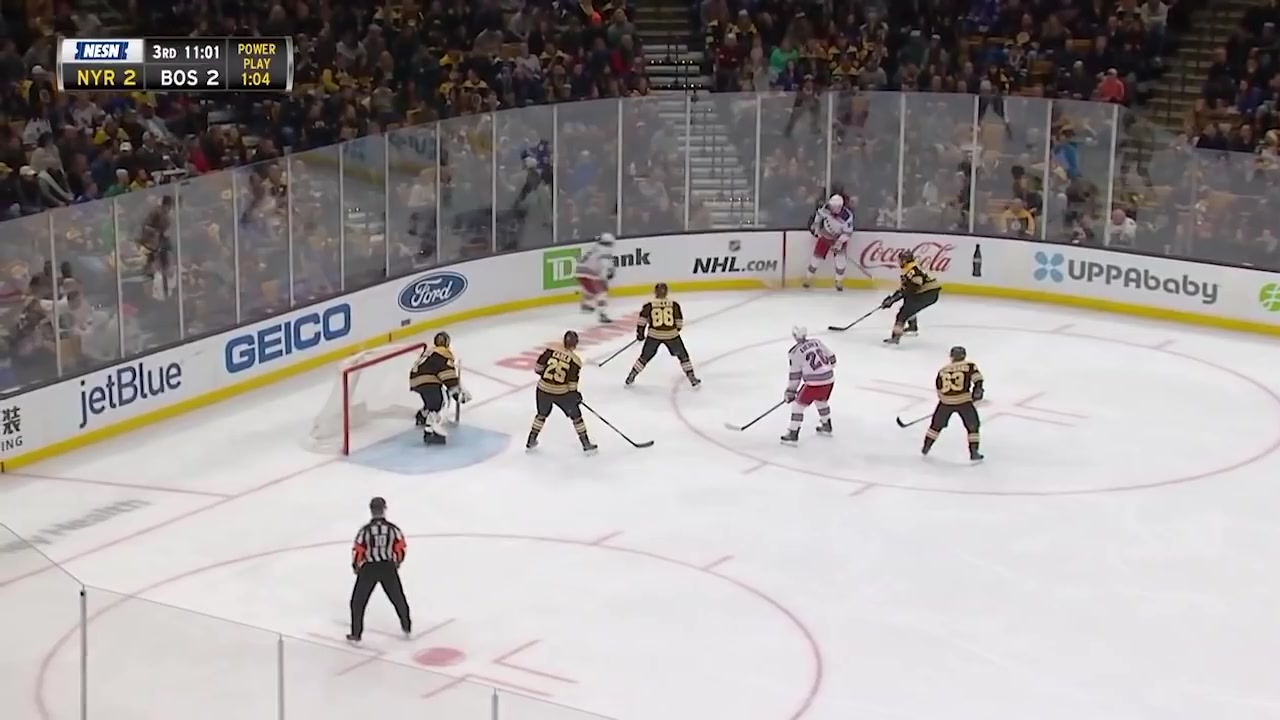Geico: (217, 304, 359, 386)
